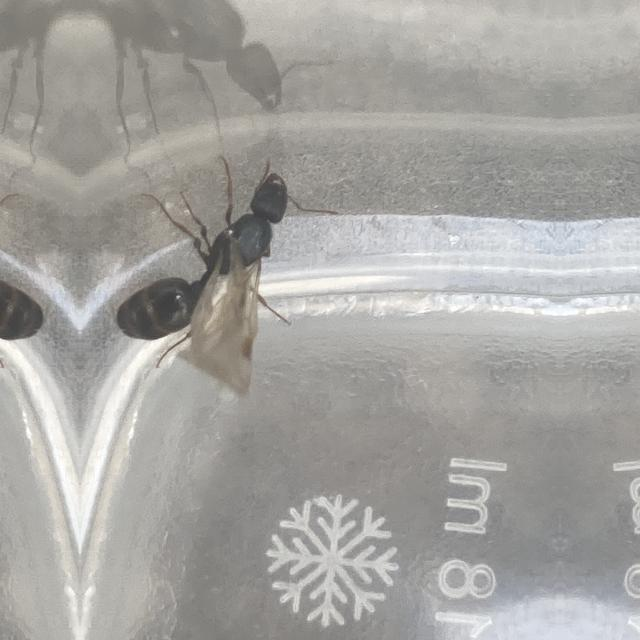Tetramorium: (84, 174, 314, 358), (0, 174, 74, 358)
